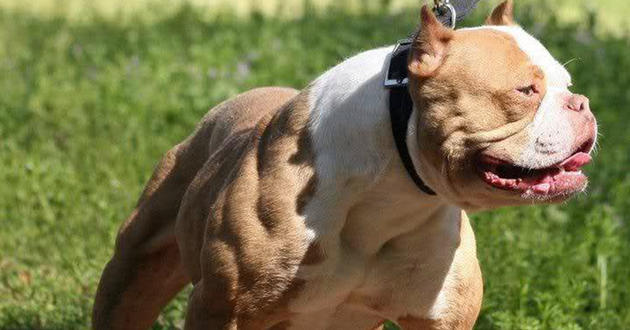Perro Pitbull: (269, 1, 617, 271)
